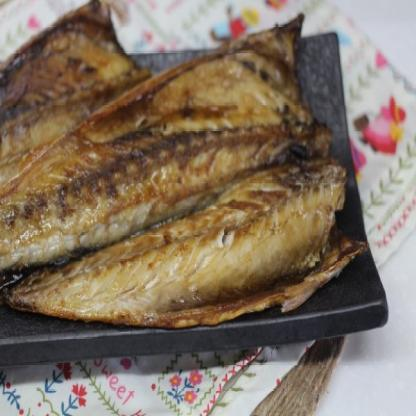Peixe: (0, 0, 354, 333)
